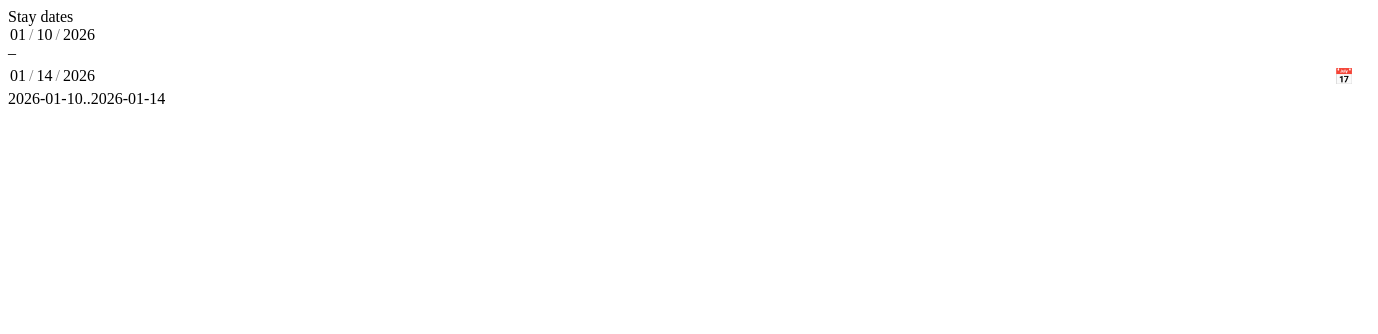
Test case: DateRangePicker › picking in the calendar updates the shared range
The width and height of the screenshot is (1378, 334).
Click the button named "Open calendar": coordinates (1344, 76) [1330,62,1358,90]
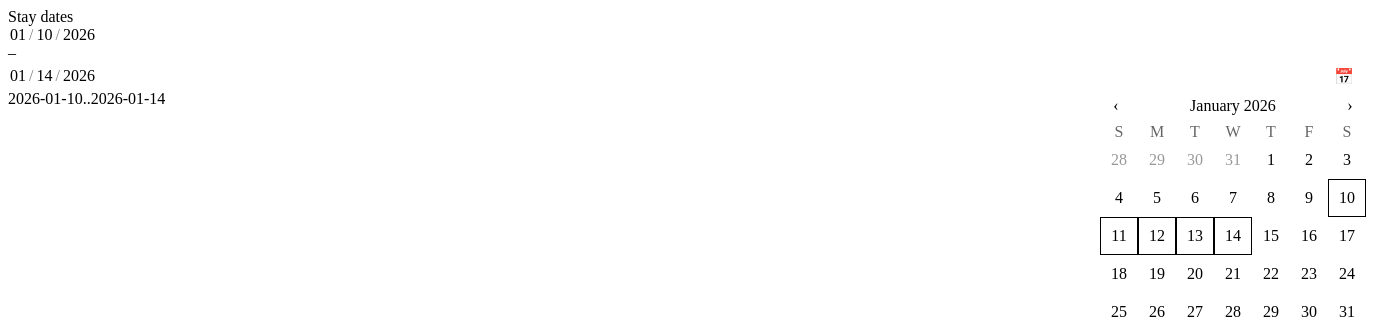
Expected: the 1st button with class "sve-range-day" is shown, [1111,151,1127,168]
Click the button with class "sve-range-day" showing "5": coordinates (1157, 198) [1153,189,1161,206]
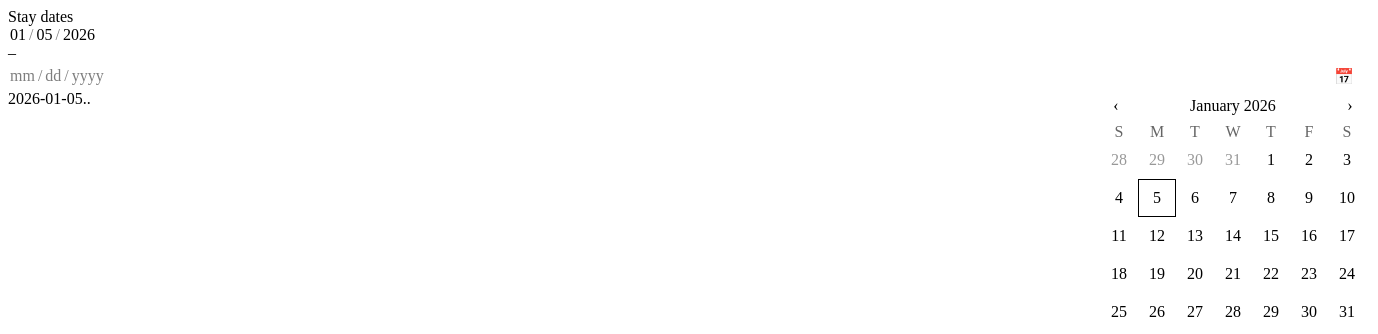
Click the button with class "sve-range-day" showing "8": coordinates (1271, 198) [1267,189,1275,206]
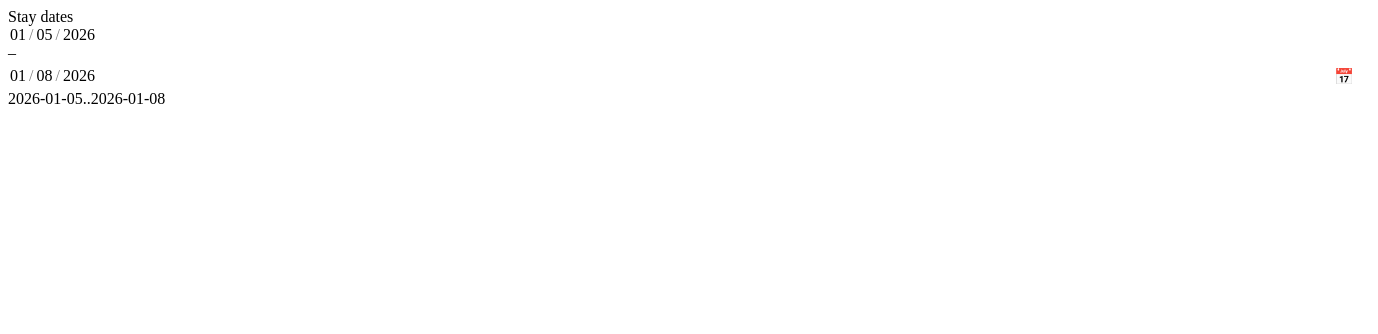
Expected: the text with test id "range" reads "2026-01-05..2026-01-08", [8,90,165,107]
